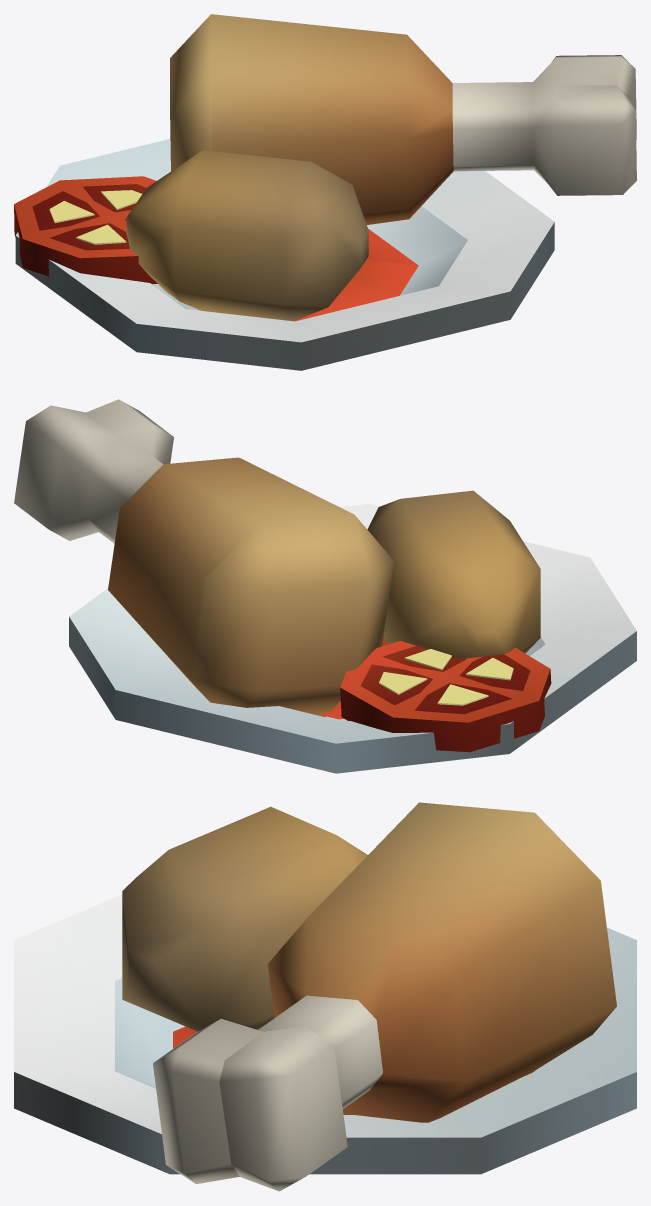
File: plate_drumstick.fbx
3 renders of one model, top to bottom at view 1: azimuth 30°, elevation 25°; view 2: azimuth 150°, elevation 25°; view 3: azimuth 270°, elevation 25°, orthographic. The views are drawn at different scales.
Parts seen in each view (by area): view 1: plate_drumstick; view 2: plate_drumstick; view 3: plate_drumstick.
Part boxes in pixels (x1=…): plate_drumstick: x1=14, y1=14, x2=636, y2=370; plate_drumstick: x1=14, y1=399, x2=636, y2=773; plate_drumstick: x1=14, y1=802, x2=636, y2=1191.
Size of the model in its own units: 67.89 by 25.74 by 51.71.
